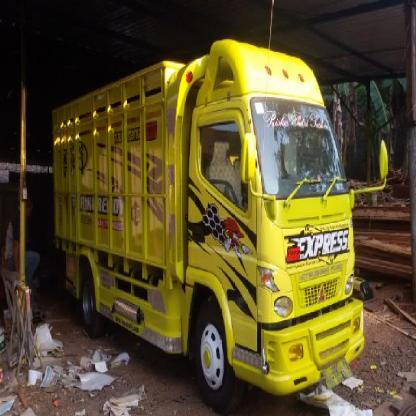truck: (54, 36, 387, 397)
